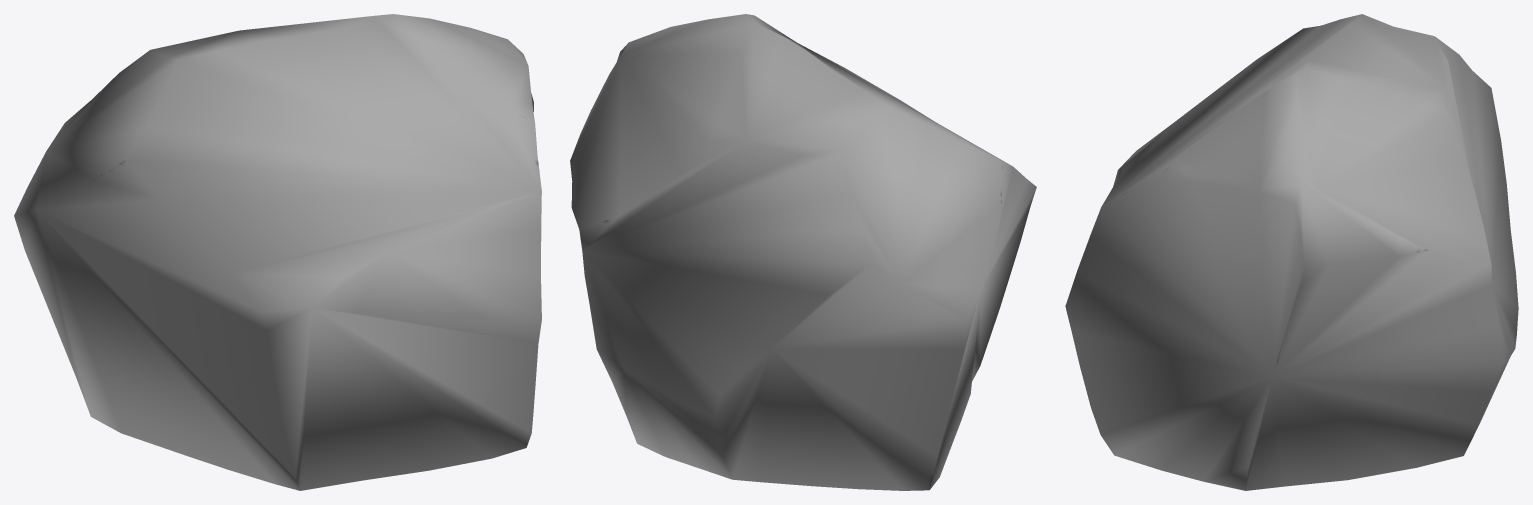
File: Minigame_rock.fbx
3 views of the same model, side by side, from view 1: azimuth 30°, elevation 25°; view 2: azimuth 150°, elevation 25°; view 3: azimuth 270°, elevation 25° (orthographic). The views are drawn at different scales.
Visible parts, largest first — view 1: rock; view 2: rock; view 3: rock.
Part boxes in pixels (x1,y1,x2,y2): rock: (14,14,541,490); rock: (570,14,1036,490); rock: (1065,14,1518,490).
Size of the model in its own units: 85.91 by 71.84 by 77.62.
